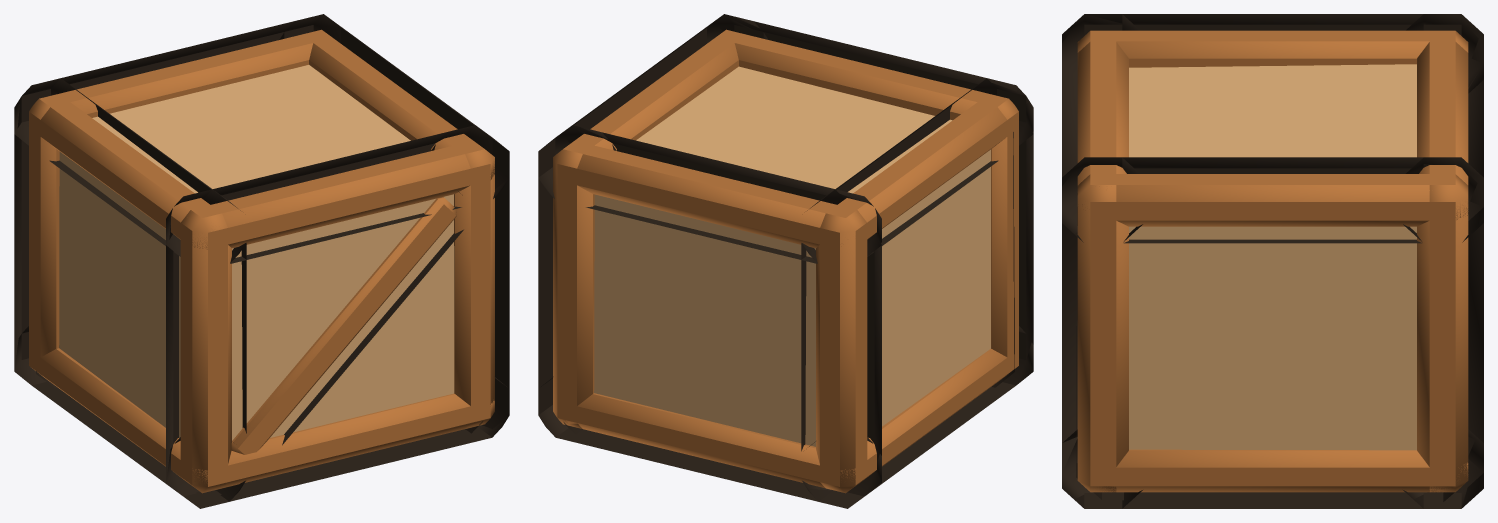
The model's file is crate.glb.
The picture shows the model from 3 angles, left to right: view 1: azimuth 30°, elevation 25°; view 2: azimuth 150°, elevation 25°; view 3: azimuth 270°, elevation 25°; orthographic projection. The views are drawn at different scales.
Visible parts, largest first — view 1: crate; view 2: crate; view 3: crate.
Boxes of the visible parts, box(x1,y1,x2,y2) form: crate: box(14, 14, 509, 508); crate: box(538, 14, 1033, 508); crate: box(1062, 14, 1483, 508).
Size of the model in its own units: 0.8203 by 0.7203 by 0.8203.
